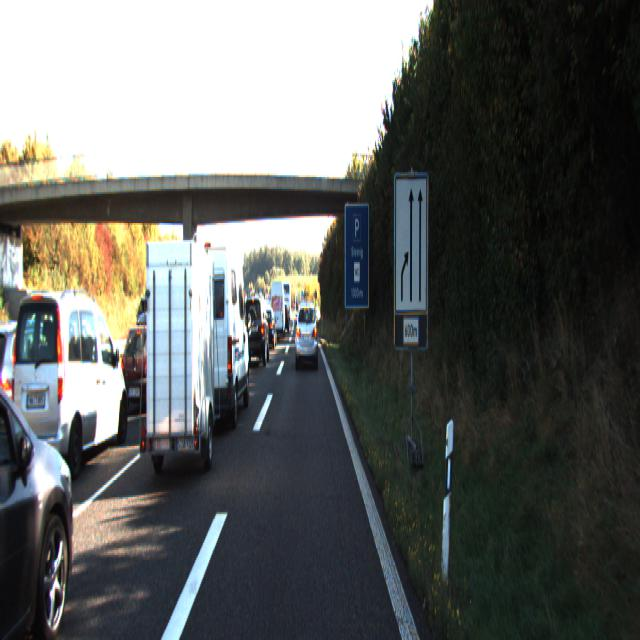Car: (0, 330, 92, 639), (11, 287, 130, 482), (136, 233, 221, 485), (182, 236, 251, 431), (0, 318, 78, 454), (121, 321, 176, 413), (241, 292, 270, 365), (295, 298, 318, 368), (270, 276, 286, 334), (260, 307, 277, 350)
